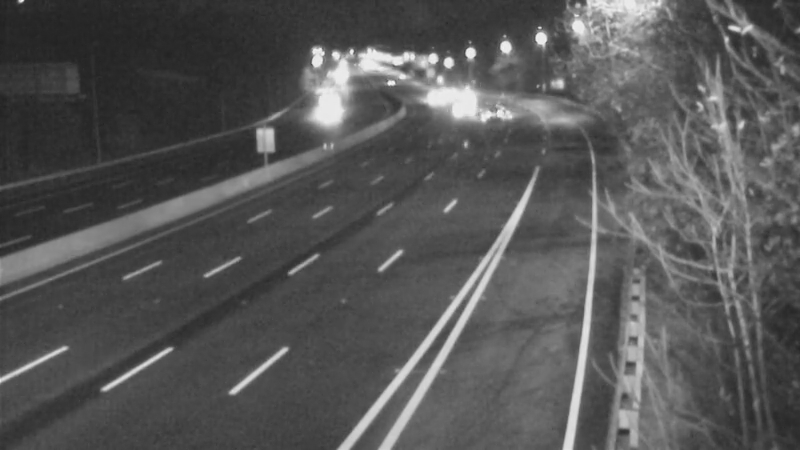vehicle: (412, 71, 462, 121), (438, 73, 488, 123), (436, 89, 486, 139), (468, 94, 518, 144), (297, 89, 347, 139)
